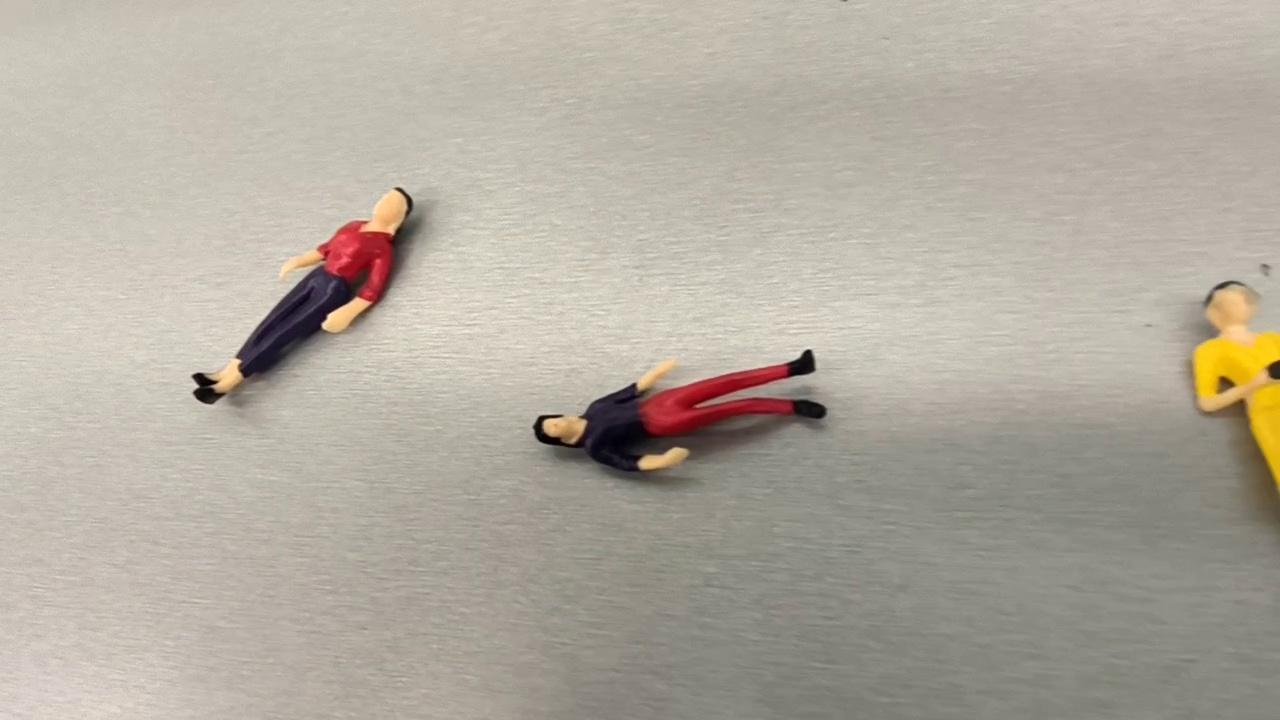human: (192, 183, 416, 407), (534, 347, 828, 476), (1192, 280, 1280, 494)
